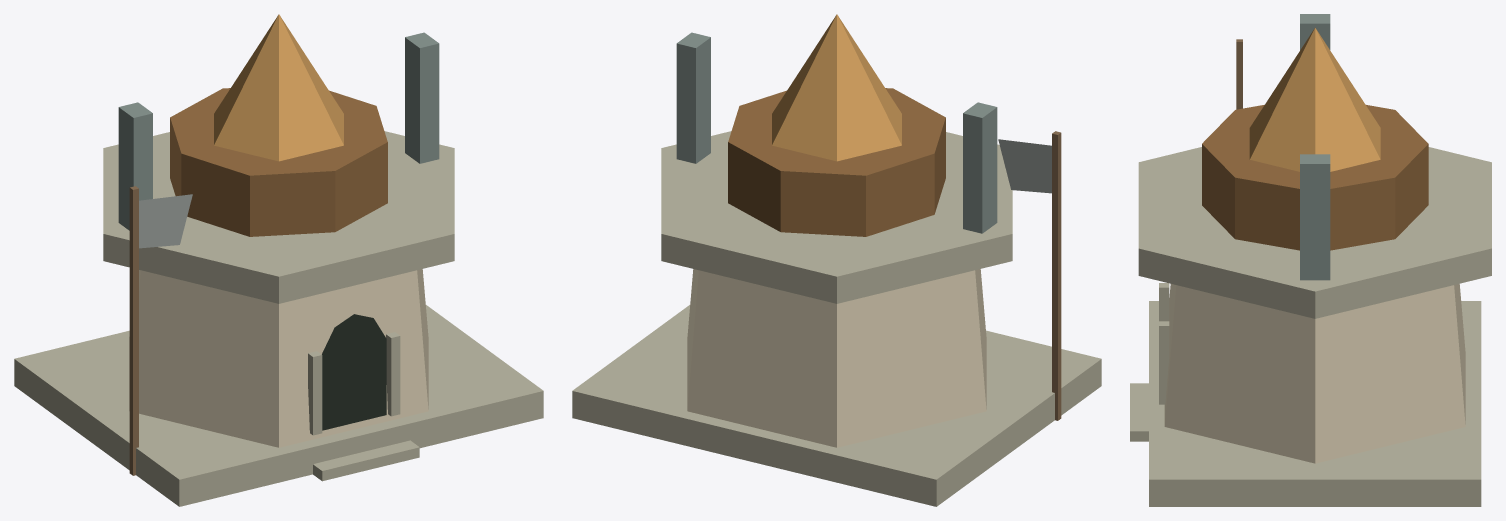
Rendered from fort-flame.glb.
The picture shows the model from 3 angles, left to right: view 1: azimuth 30°, elevation 25°; view 2: azimuth 150°, elevation 25°; view 3: azimuth 270°, elevation 25°; orthographic projection.
Parts seen in each view (by area): view 1: Building; view 2: Building; view 3: Building.
Part boxes in pixels (x1=…): Building: x1=14, y1=14, x2=543, y2=506; Building: x1=572, y1=14, x2=1101, y2=506; Building: x1=1130, y1=14, x2=1491, y2=506.
Size of the model in its own units: 56.45 by 57 by 47.88.
